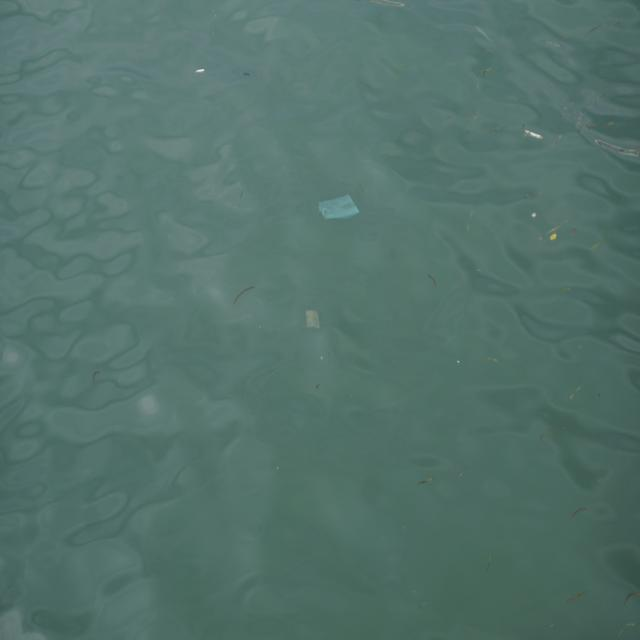Kantong Plastik: (319, 193, 361, 225), (306, 308, 324, 332)
